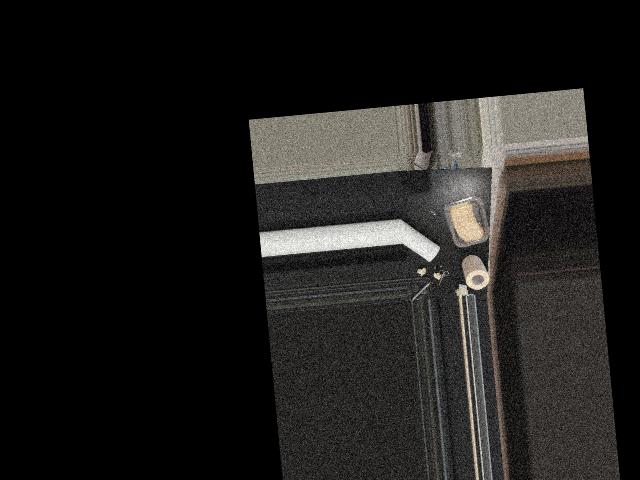cheese: (444, 195, 487, 248)
